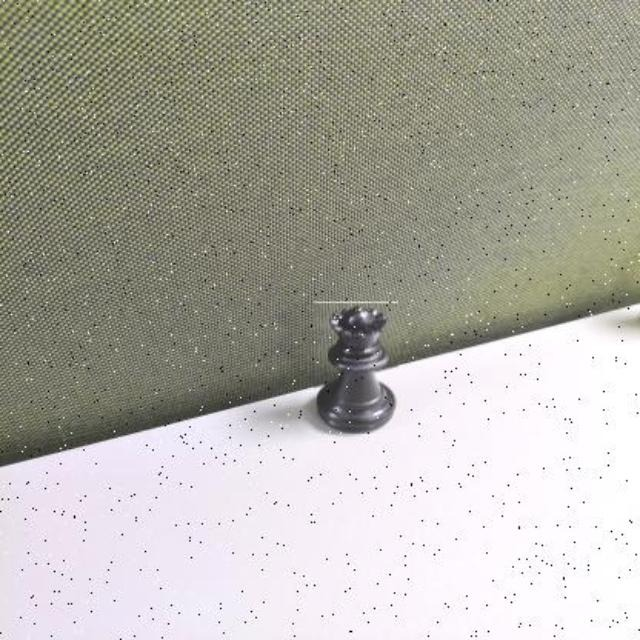black-queen: (314, 301, 400, 434)
